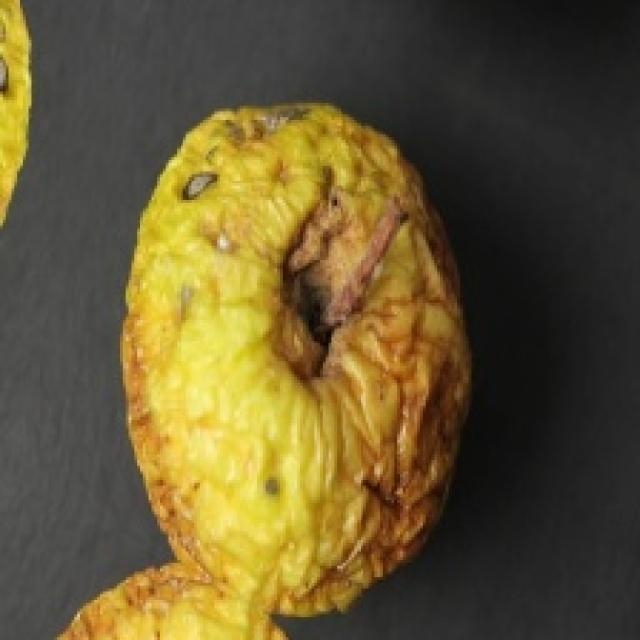rotten_apple: (130, 105, 466, 611)
